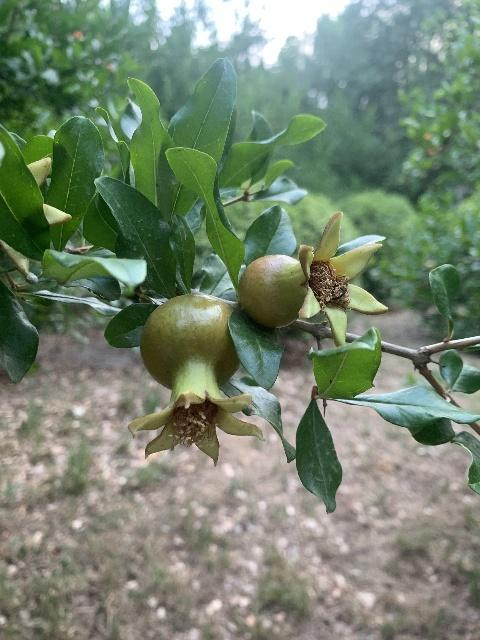early-fruit: (237, 210, 387, 346)
mid-growth: (127, 292, 265, 463)
